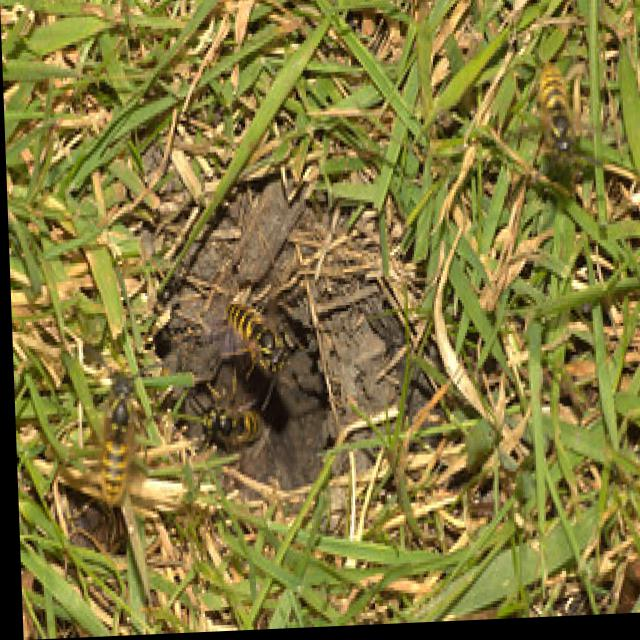Guepe: (210, 277, 314, 404), (177, 384, 276, 467)
